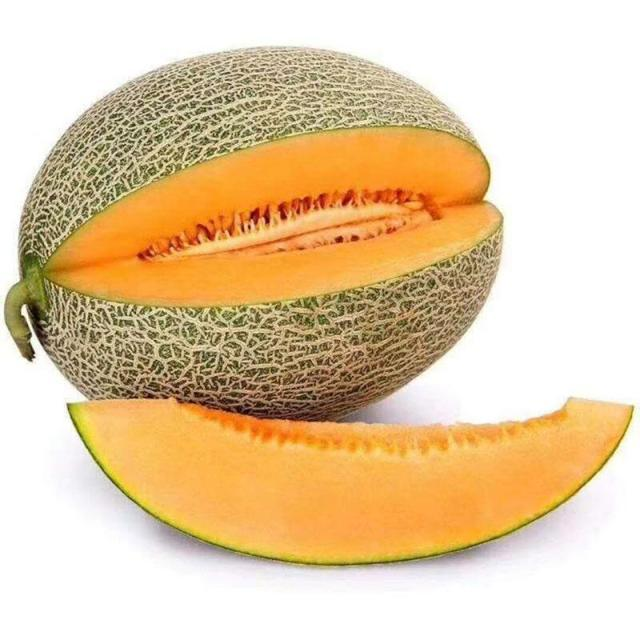Hami Melon: (19, 43, 505, 422)
